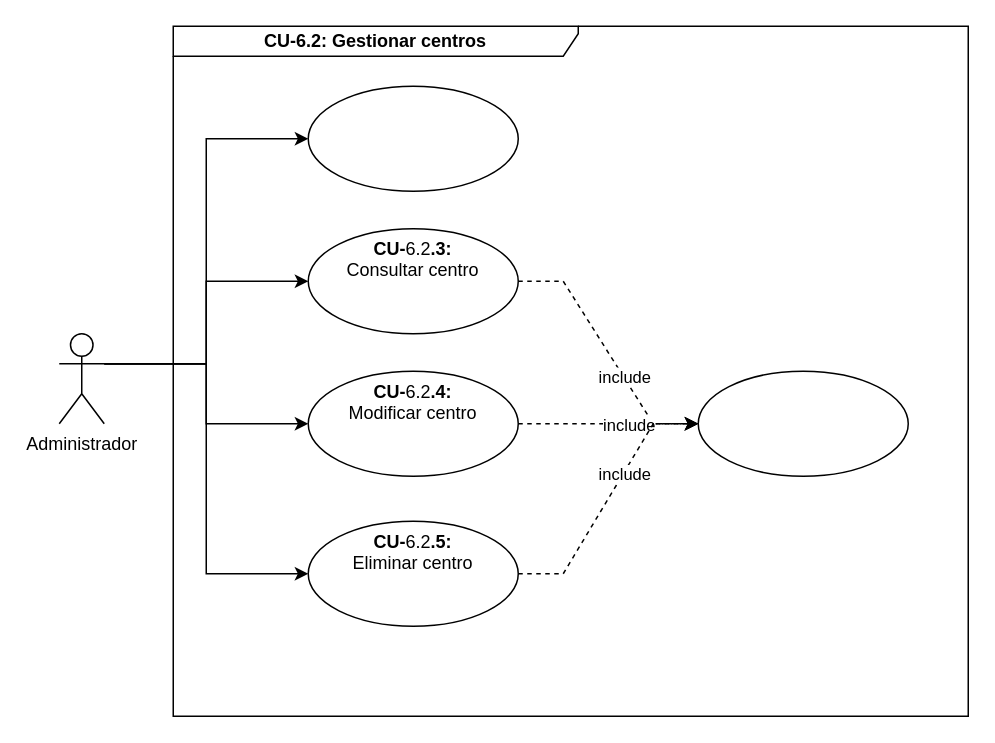
This 995x743 diagram has some shape labels left out. The box of each missing label's shape, as (x1, y1, x2, y2) in pixels:
CU- 6.2 .1: Buscar centro: (697, 370, 908, 476)
CU- 6.2 .2: Crear centro: (307, 85, 518, 191)
